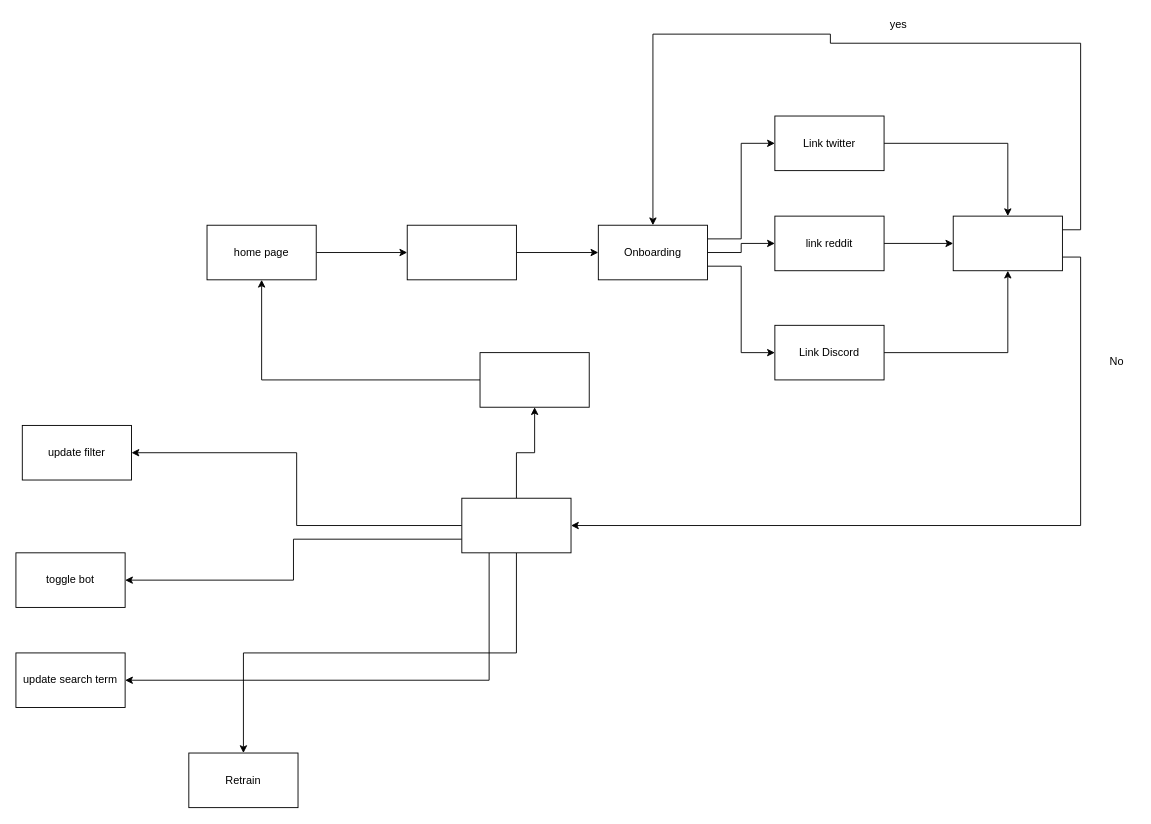
This 1151x824 diagram has some shape labels left out. Here are the shapes that lost their labels. From the top down, the centre of each, then its label:
point 461,252: Create account
point 1007,243: Do you want to link more?
point 534,379: logout
point 516,525: Dashboard
